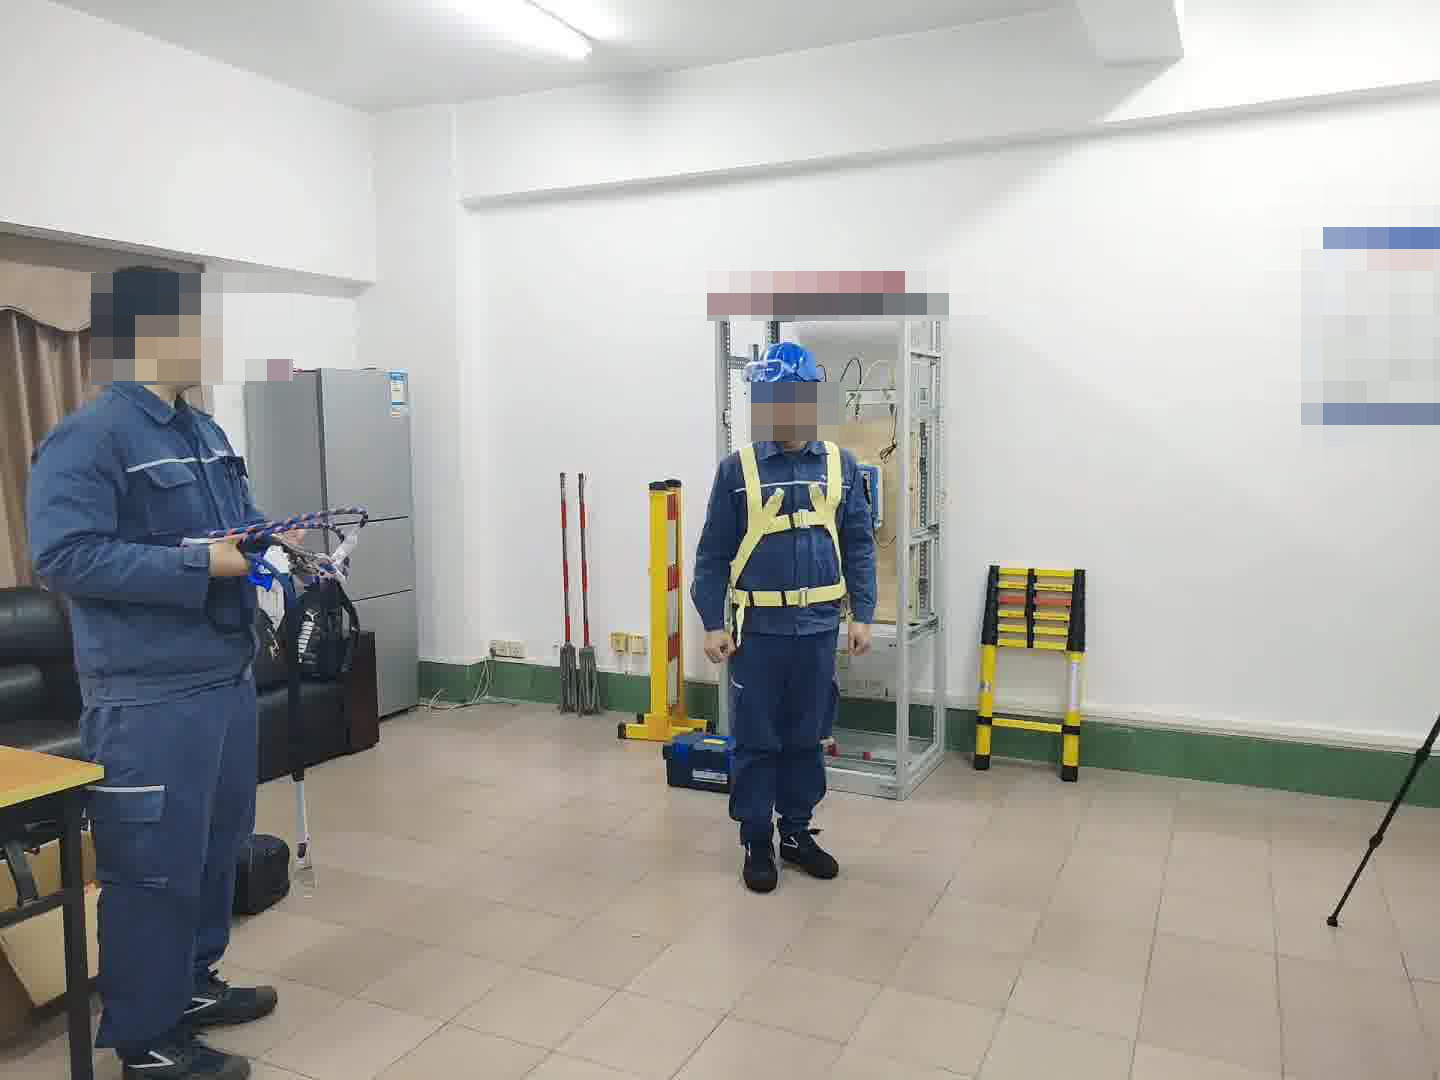downsuit: (84, 709, 259, 1048), (725, 644, 841, 840)
halt: (744, 340, 828, 442)
hand: (205, 530, 253, 585), (844, 619, 878, 661), (698, 625, 735, 662)
inear: (789, 388, 817, 436)
noear: (119, 317, 181, 383)
person: (22, 260, 326, 1080), (687, 339, 887, 888)
safebelt: (714, 431, 860, 655)
unhalt: (90, 268, 221, 402)
upsuit: (25, 381, 277, 699), (686, 436, 881, 631)
